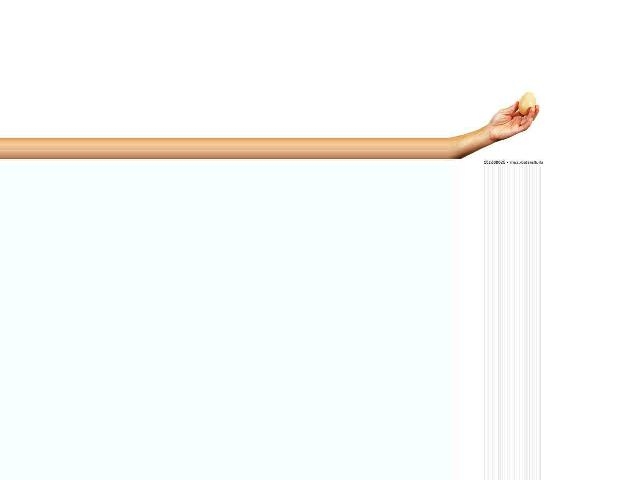egg: (517, 92, 535, 116)
